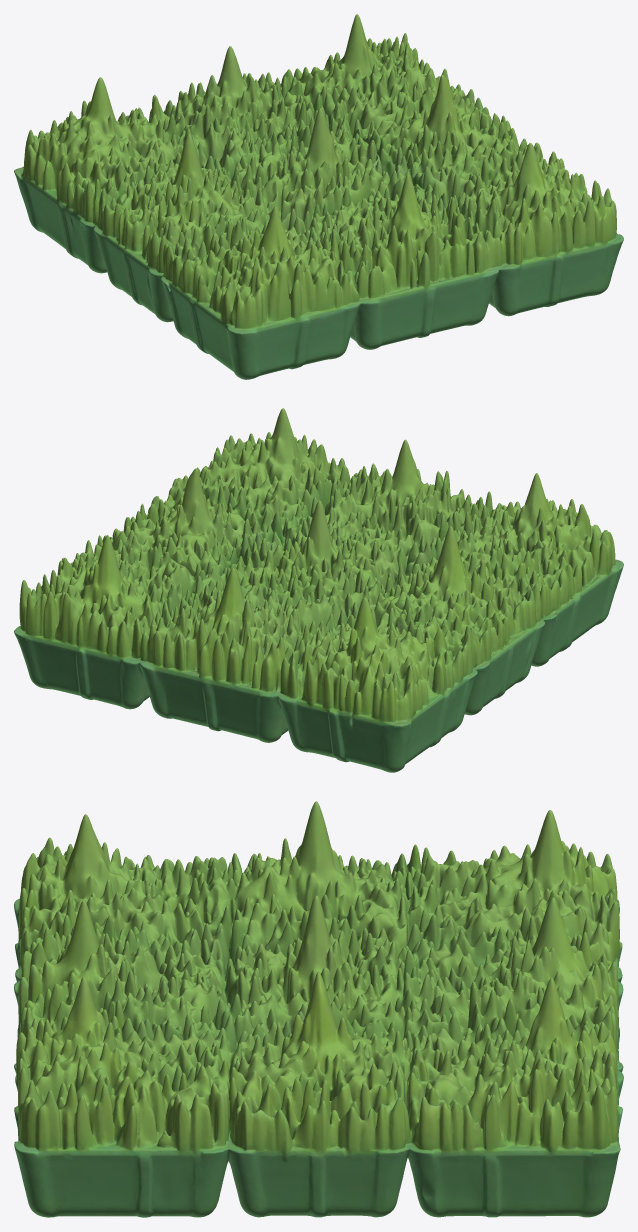
File: terrain_plains 2.glb
3 renders of one model, top to bottom at view 1: azimuth 30°, elevation 25°; view 2: azimuth 150°, elevation 25°; view 3: azimuth 270°, elevation 25°, orthographic. The views are drawn at different scales.
Parts seen in each view (by area): view 1: tripo_node_4c8d0830-09aa-48e9-86a8-4f4aff87f0b9; view 2: tripo_node_4c8d0830-09aa-48e9-86a8-4f4aff87f0b9; view 3: tripo_node_4c8d0830-09aa-48e9-86a8-4f4aff87f0b9.
Boxes of the visible parts, box(x1,y1,x2,y2) form: tripo_node_4c8d0830-09aa-48e9-86a8-4f4aff87f0b9: box(14, 14, 623, 379); tripo_node_4c8d0830-09aa-48e9-86a8-4f4aff87f0b9: box(14, 408, 623, 772); tripo_node_4c8d0830-09aa-48e9-86a8-4f4aff87f0b9: box(14, 801, 623, 1217).
Size of the model in its own units: 0.996 by 0.3914 by 1.
Materials: 1 (1 with a texture image).
